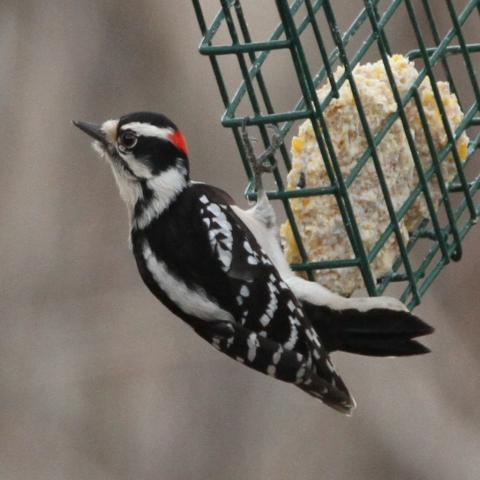bird: (69, 107, 436, 418)
